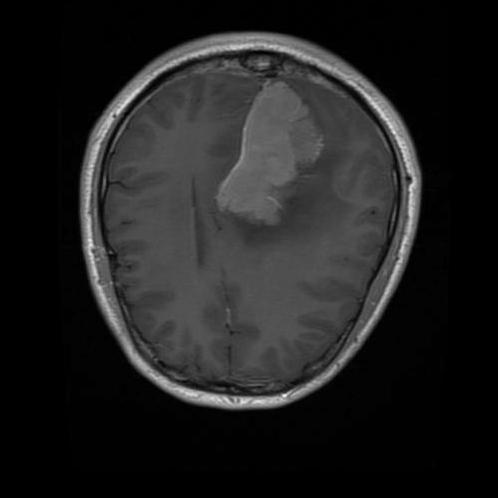Tumour-Pituitary: (182, 71, 336, 247)
